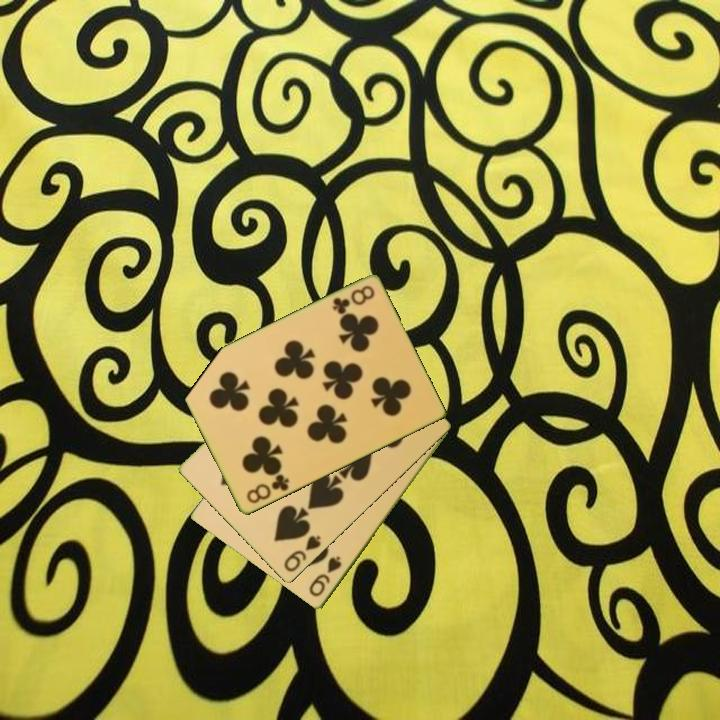8c: (243, 471, 292, 507), (329, 282, 378, 318)
9s: (305, 552, 345, 600), (280, 532, 324, 575)
